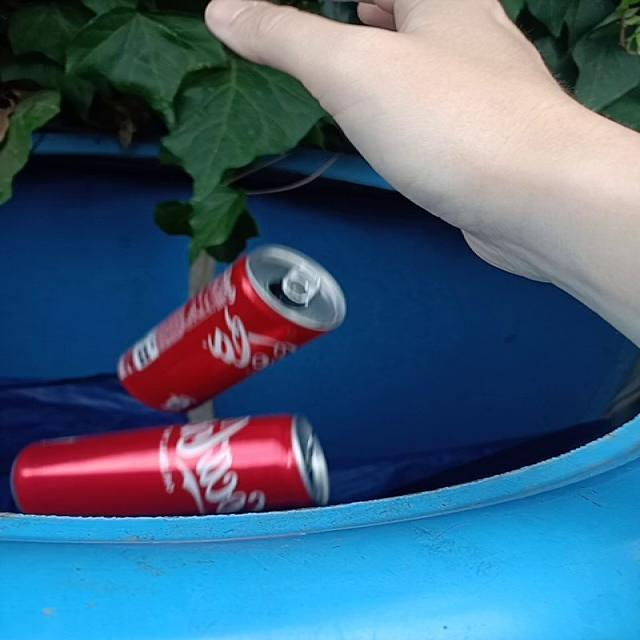Bin: (0, 155, 638, 640), (0, 133, 189, 510)
Metal: (116, 246, 345, 412), (9, 416, 329, 516)
